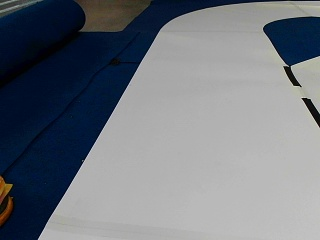burger: (0, 174, 13, 226)
